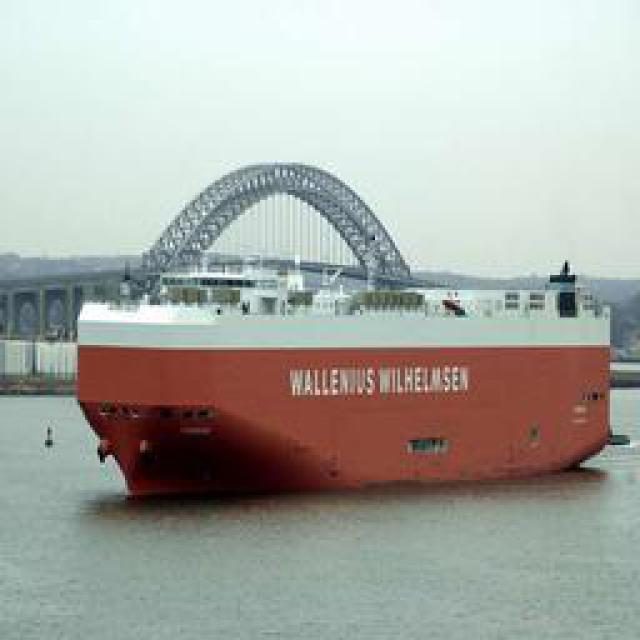Ship: (76, 216, 621, 499)
